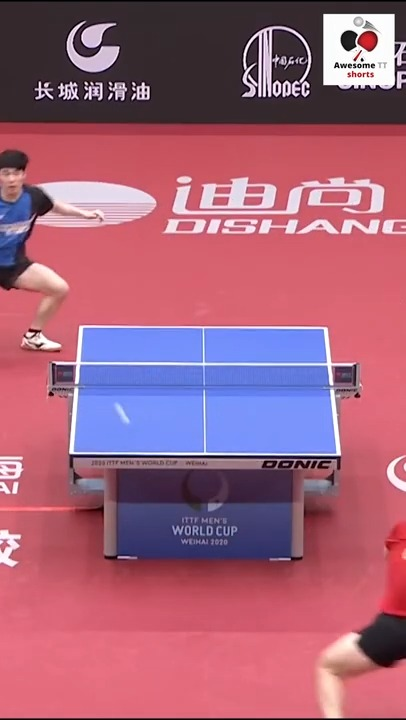Ball: (117, 402, 131, 427)
